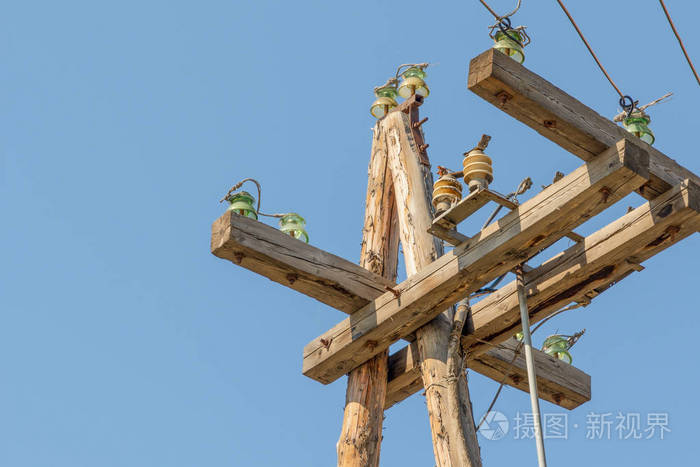insulator: (431, 177, 462, 209), (462, 153, 494, 183)
